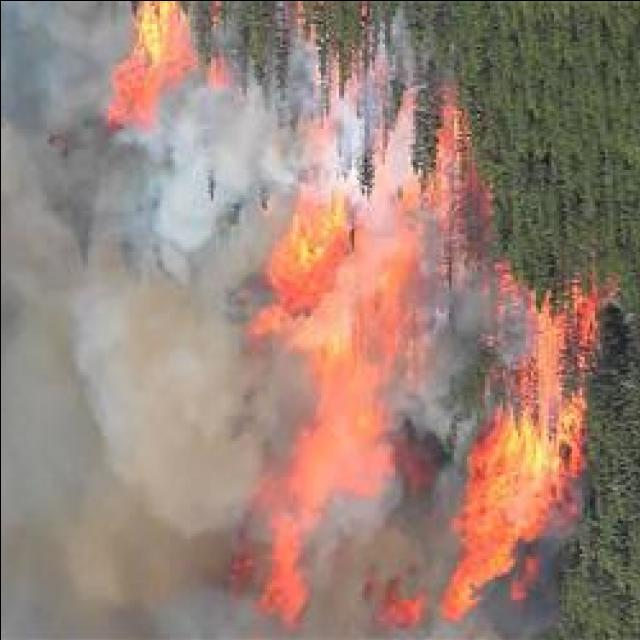fire: (311, 316, 388, 496), (472, 404, 582, 499), (275, 196, 340, 306), (127, 0, 181, 83), (468, 478, 534, 542)
smoke: (66, 281, 249, 514), (238, 103, 380, 213), (327, 476, 420, 638), (2, 0, 104, 118), (162, 70, 218, 240), (392, 303, 452, 452), (508, 520, 562, 634)
